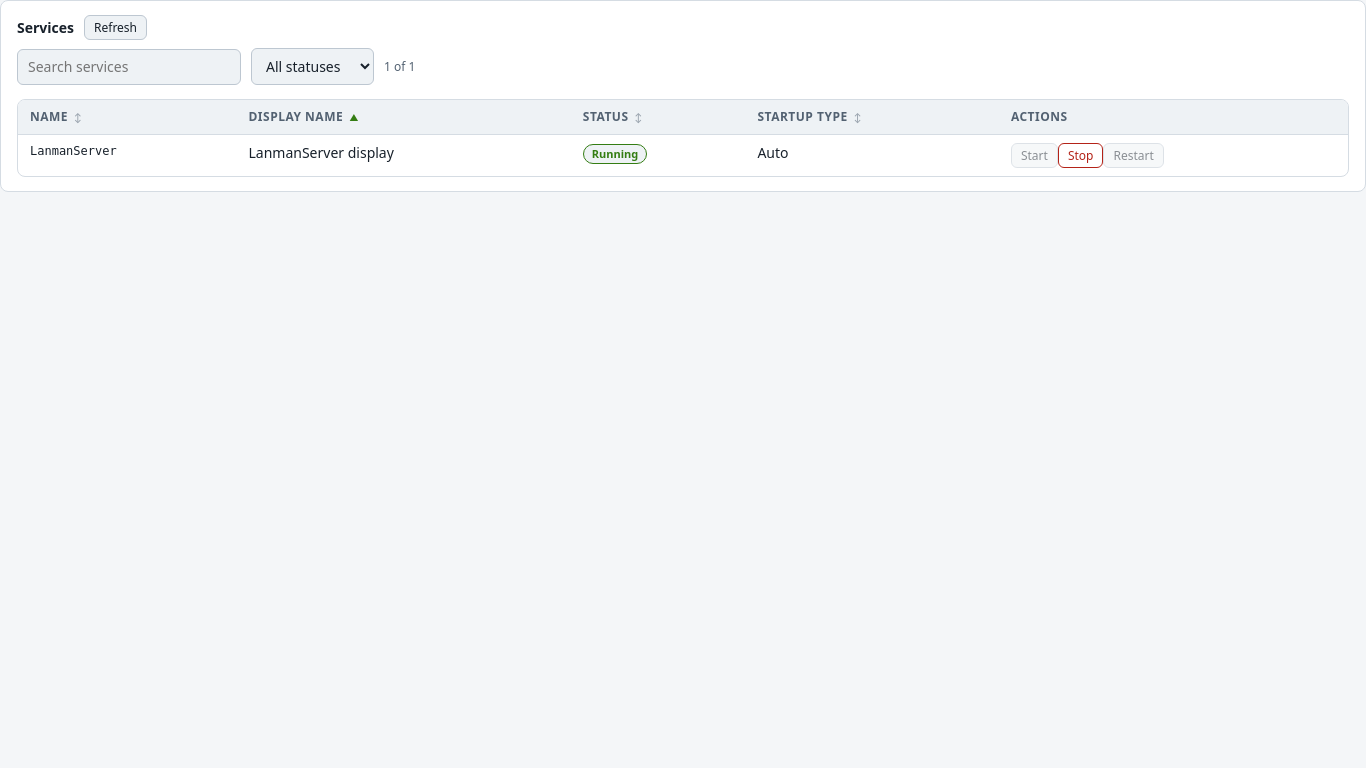
dependents flow › is blocked when the dependents cannot be read
Click the button with aria-label "Stop LanmanServer": (1081, 156) [1058,143,1104,168]
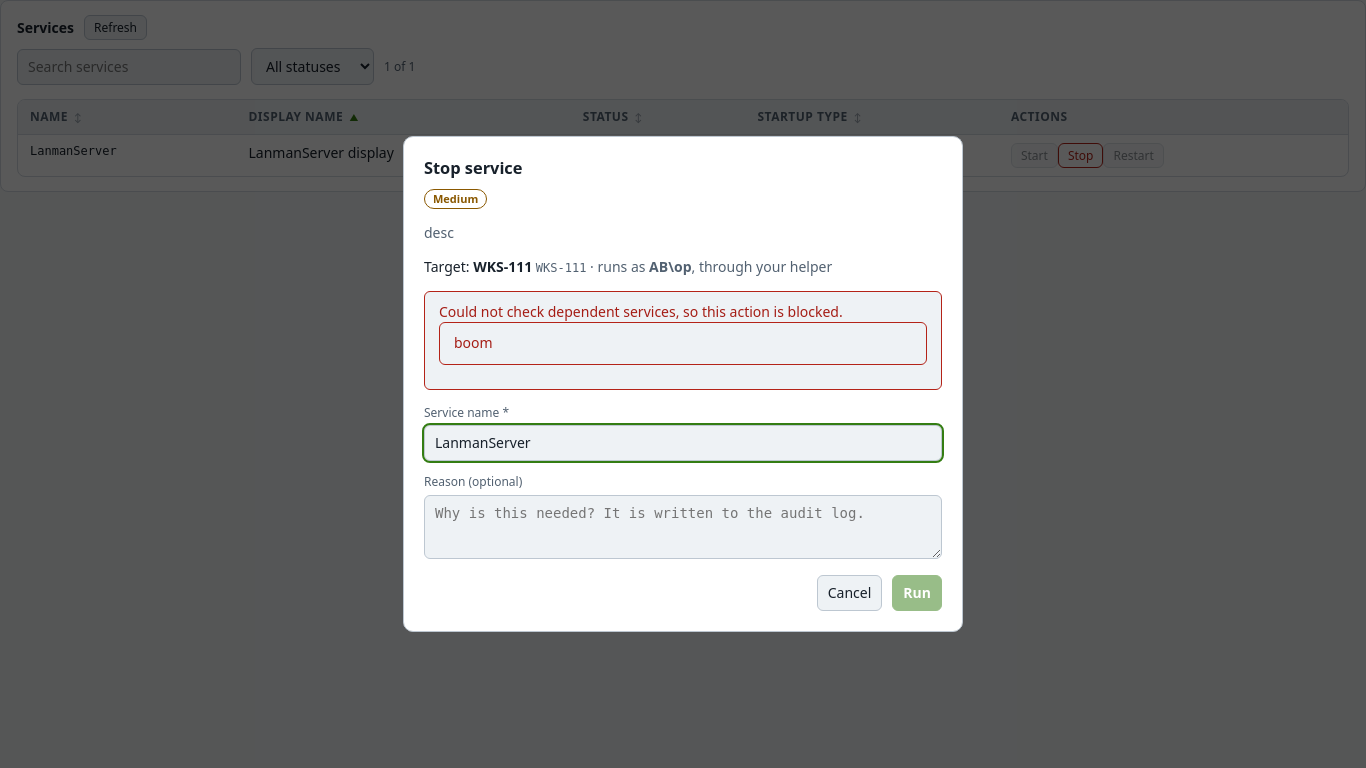
Now the text "Could not check dependent services, so this action is blocked. boom" is shown, box [424,291,942,390]
Now the button "Run" is disabled, box [892,575,942,611]
